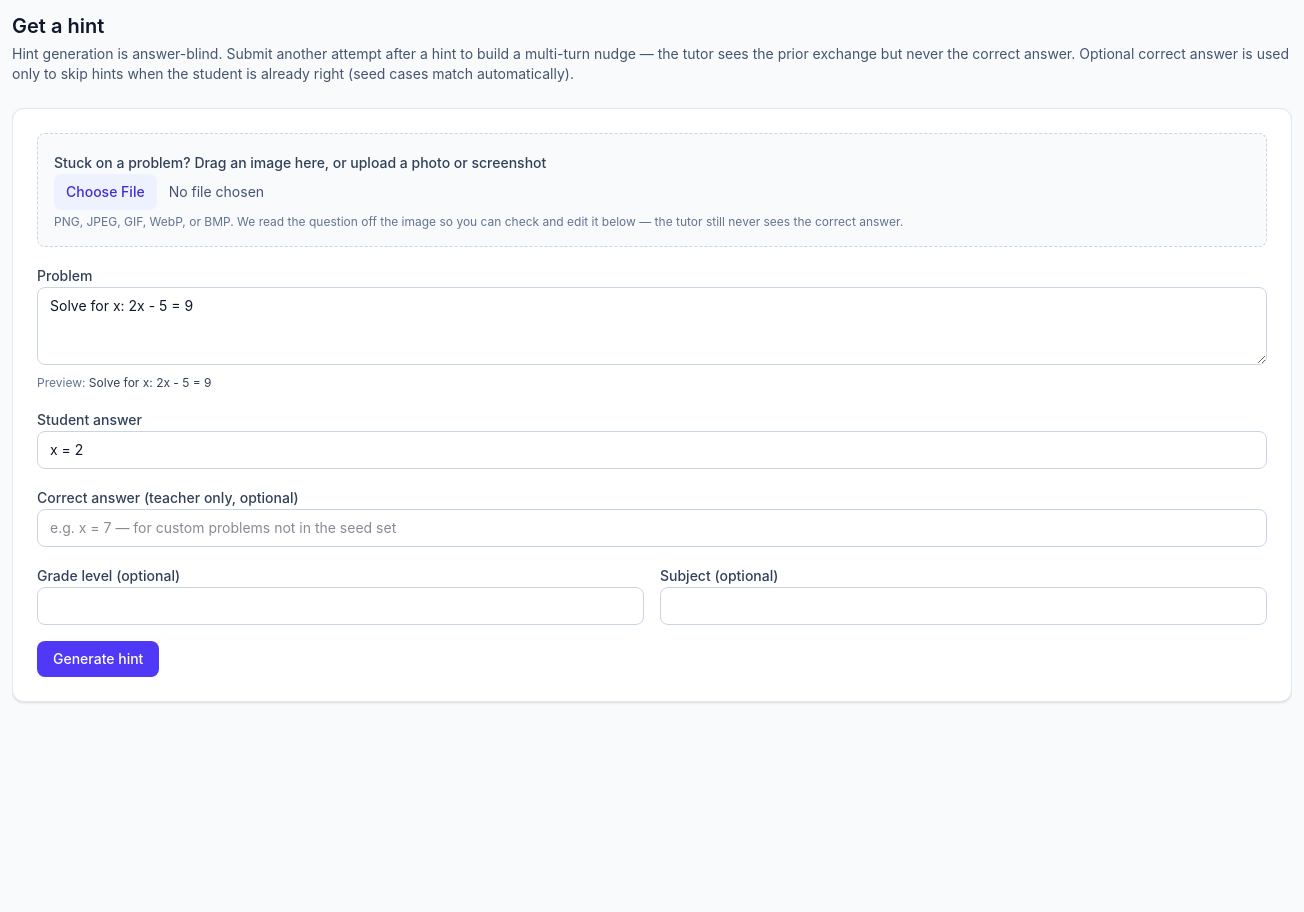
HintView › shows meta.error partial-success state
The width and height of the screenshot is (1304, 912).
Click the button "Generate hint".
click(98, 659)  # box [37, 641, 159, 677]
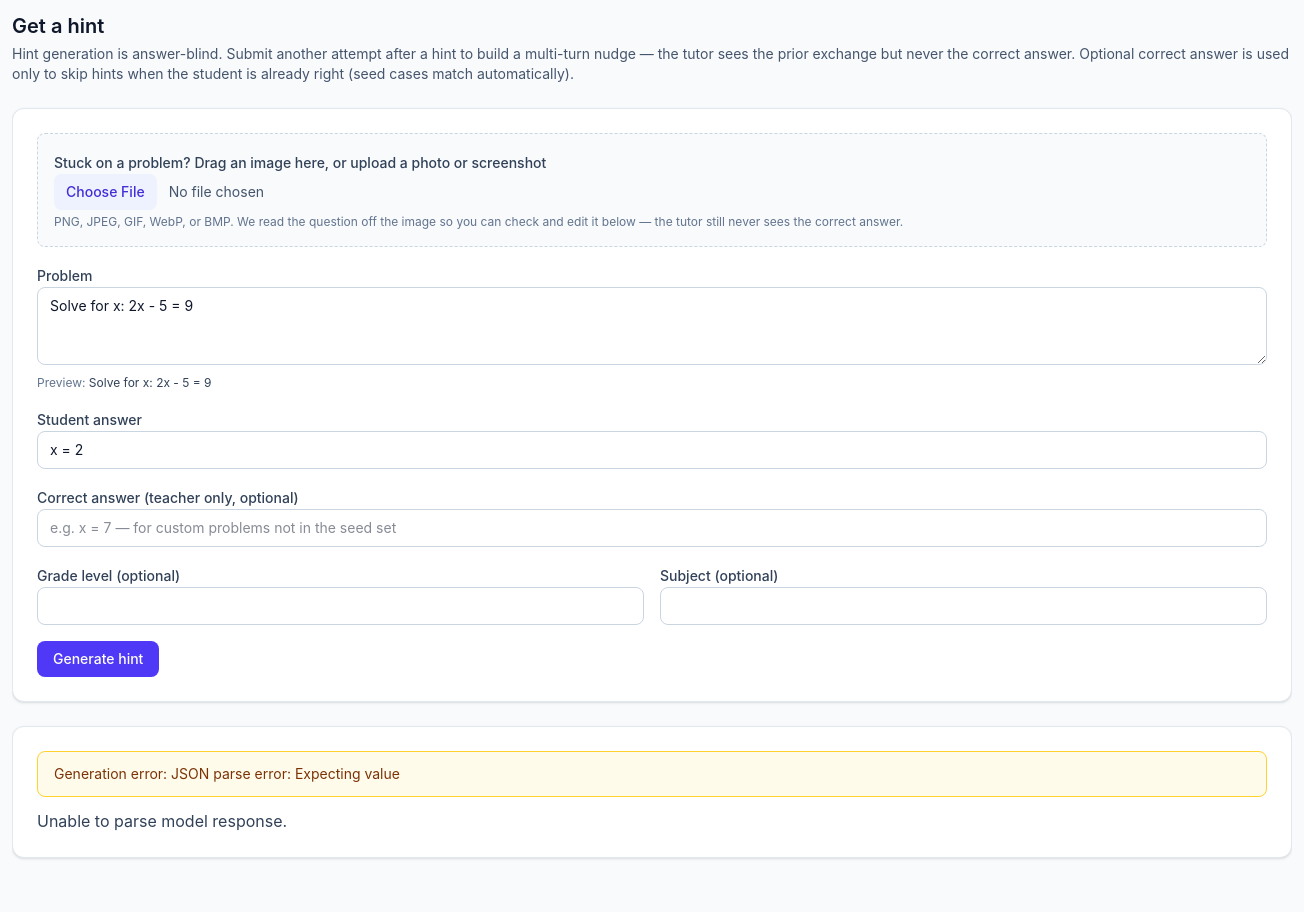
expect the message shows "Generation error: JSON parse error": met, box [37, 751, 1267, 797]
